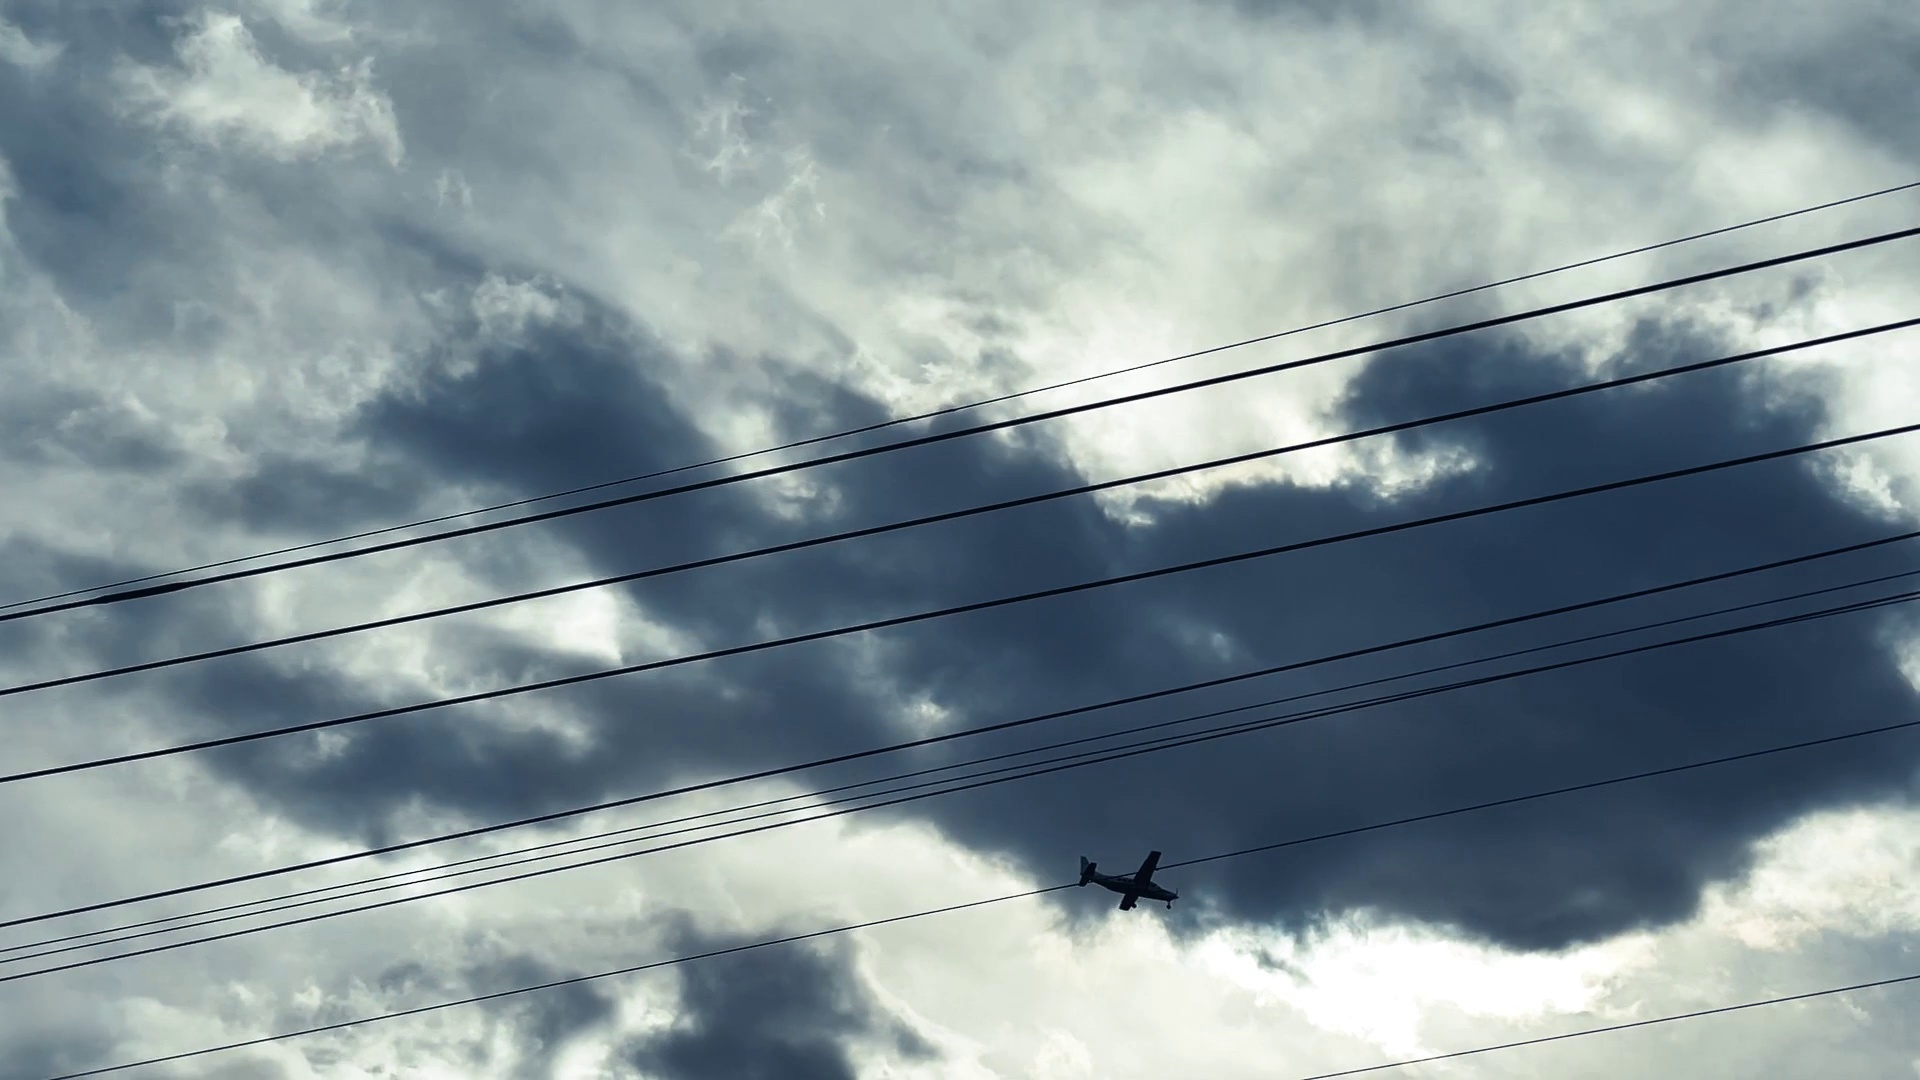plane: (1077, 851, 1178, 910)
